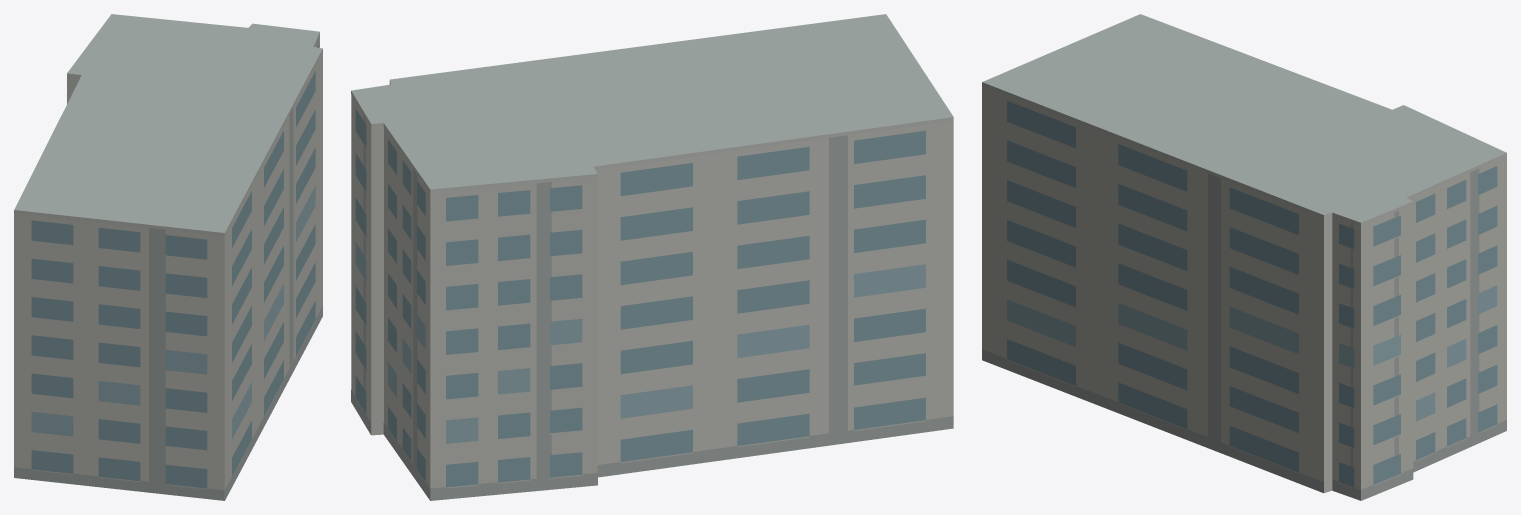
Rendered from survey-upis-32849221.glb.
3 views of the same model, side by side, from view 1: azimuth 30°, elevation 25°; view 2: azimuth 150°, elevation 25°; view 3: azimuth 270°, elevation 25° (orthographic). The views are drawn at different scales.
Parts seen in each view (by area): view 1: survey-upis-32849221.tmp; view 2: survey-upis-32849221.tmp; view 3: survey-upis-32849221.tmp.
Part boxes in pixels (left/top/right/bottom): survey-upis-32849221.tmp: left=14, top=14, right=322, bottom=500; survey-upis-32849221.tmp: left=351, top=14, right=953, bottom=500; survey-upis-32849221.tmp: left=982, top=14, right=1506, bottom=500.
Bounding box in the file's own units: 33.29 × 20.67 × 35.36.
